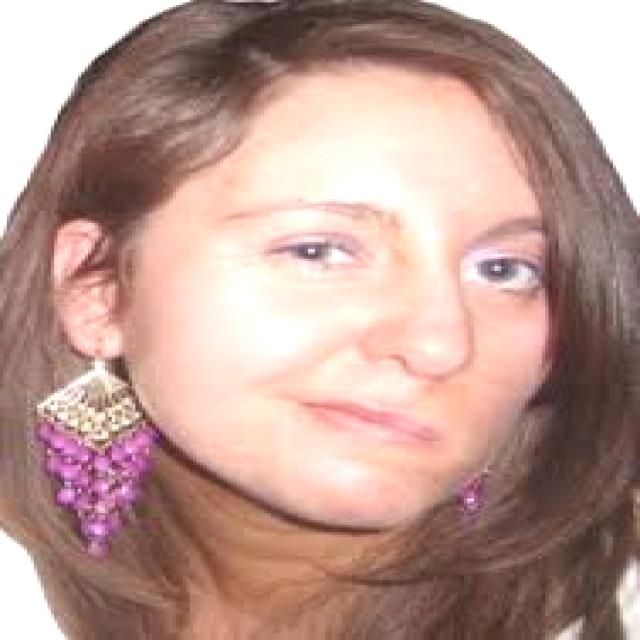stroke_face: (93, 19, 586, 541)
